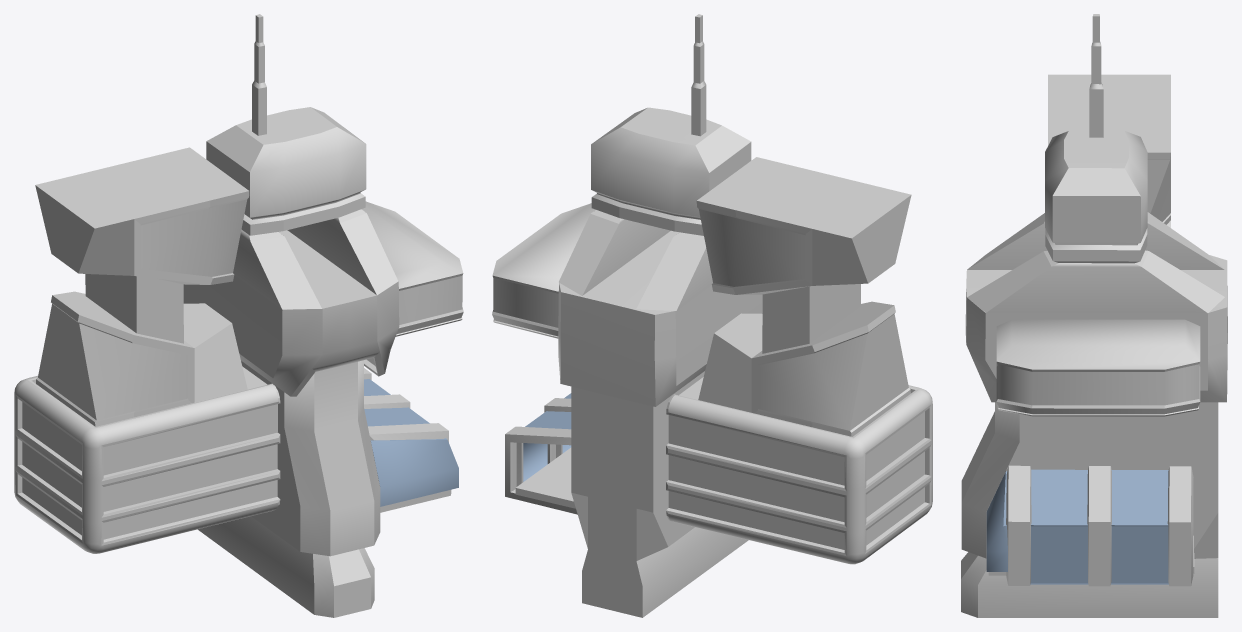
Rendered from KF_SM_Kayan_Building3.fbx.
3 views of the same model, side by side, from view 1: azimuth 30°, elevation 25°; view 2: azimuth 150°, elevation 25°; view 3: azimuth 270°, elevation 25° (orthographic). The views are drawn at different scales.
Parts seen in each view (by area): view 1: Box022, Box009, Box021, Box023, Box032, Box014, Box010, Box012; view 2: Box022, Box009, Box021, Box023, Box032, Box010, Box011, Box013; view 3: Box009, Box023, Box032, Box010, Box022, Box012, Box013, Box014.
Boxes of the visible parts, box(x1,y1,x2,y2) form: Box022: box(35, 147, 249, 426); Box009: box(183, 230, 399, 617); Box021: box(14, 366, 280, 553); Box023: box(206, 14, 397, 309); Box032: box(361, 201, 463, 336); Box014: box(370, 438, 458, 506); Box010: box(364, 368, 448, 442); Box012: box(364, 407, 429, 426); Box022: box(696, 157, 911, 436); Box009: box(558, 230, 762, 617); Box021: box(666, 377, 932, 564); Box023: box(559, 14, 751, 310); Box032: box(492, 203, 595, 338); Box010: box(505, 398, 577, 514); Box011: box(515, 447, 575, 508); Box013: box(523, 411, 571, 481); Box009: box(961, 255, 1227, 617); Box023: box(967, 14, 1224, 313); Box032: box(996, 319, 1200, 416); Box010: box(1006, 465, 1193, 586); Box022: box(1048, 74, 1170, 227); Box012: box(1030, 469, 1088, 584); Box013: box(1111, 470, 1168, 584); Box014: box(986, 471, 1007, 571).
Size of the model in its own units: 120 by 170 by 71.87.
